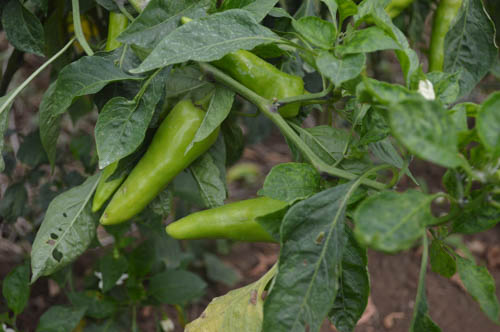ChiliPepper: (100, 102, 220, 219), (162, 198, 301, 251), (217, 51, 307, 118)
